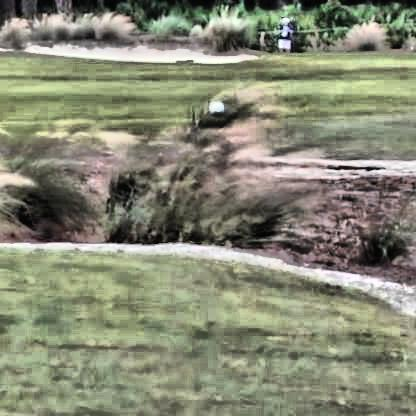golfball: (206, 98, 221, 113)
